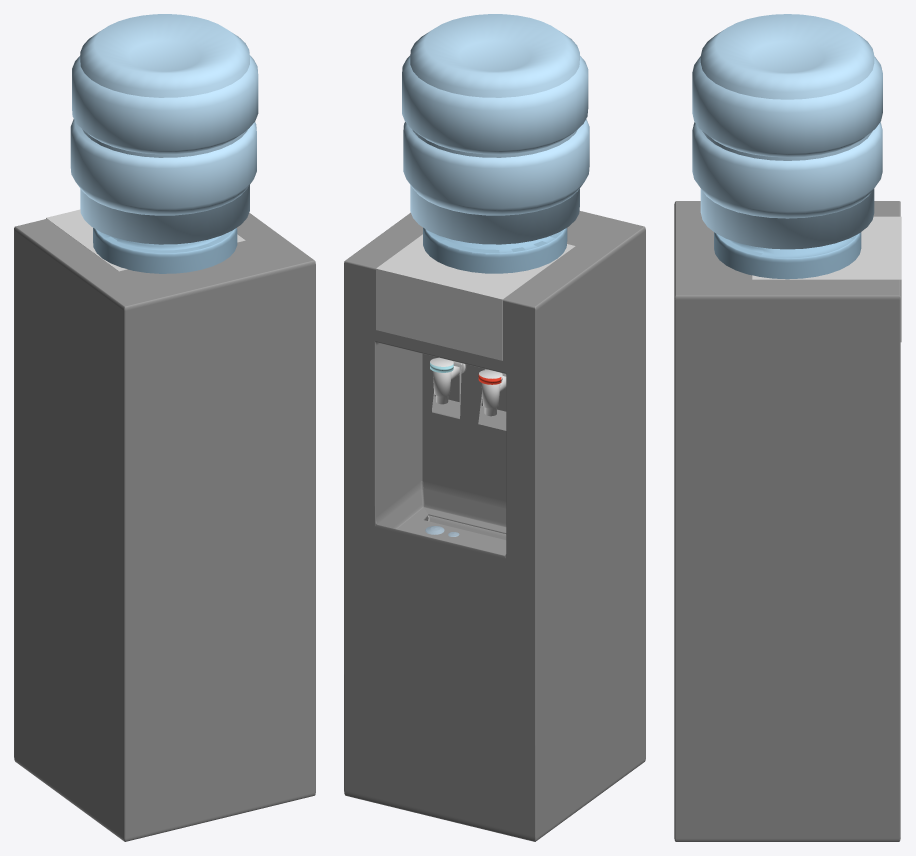
File: water filter some mess.fbx
3 views of the same model, side by side, from view 1: azimuth 30°, elevation 25°; view 2: azimuth 150°, elevation 25°; view 3: azimuth 270°, elevation 25° (orthographic). The views are drawn at different scales.
Visible parts, largest first — view 1: Cube, Cylinder.008, Cylinder.007; view 2: Cube, Cylinder.008, Cylinder.007; view 3: Cube, Cylinder.008, Cylinder.007.
Boxes of the visible parts, x1,y1,x2,y2 form: Cube: (14, 213, 315, 841); Cylinder.008: (70, 14, 258, 244); Cylinder.007: (46, 209, 245, 271); Cube: (344, 211, 645, 841); Cylinder.008: (402, 14, 589, 244); Cylinder.007: (376, 234, 575, 384); Cube: (674, 201, 900, 841); Cylinder.008: (692, 14, 882, 249); Cylinder.007: (752, 216, 901, 342).
Bounding box in the file's own units: 200 × 732 × 201.
